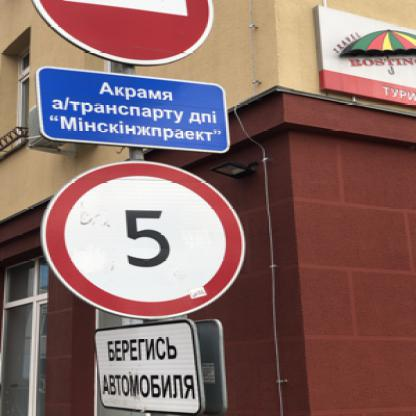speedlimit: (38, 160, 242, 318)
